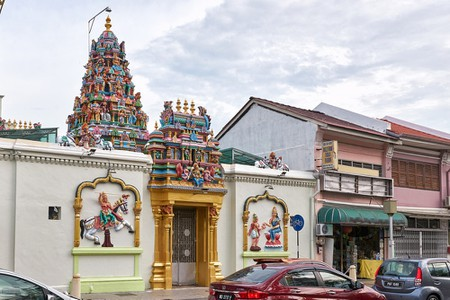Hindu Temple: (51, 14, 227, 262)
